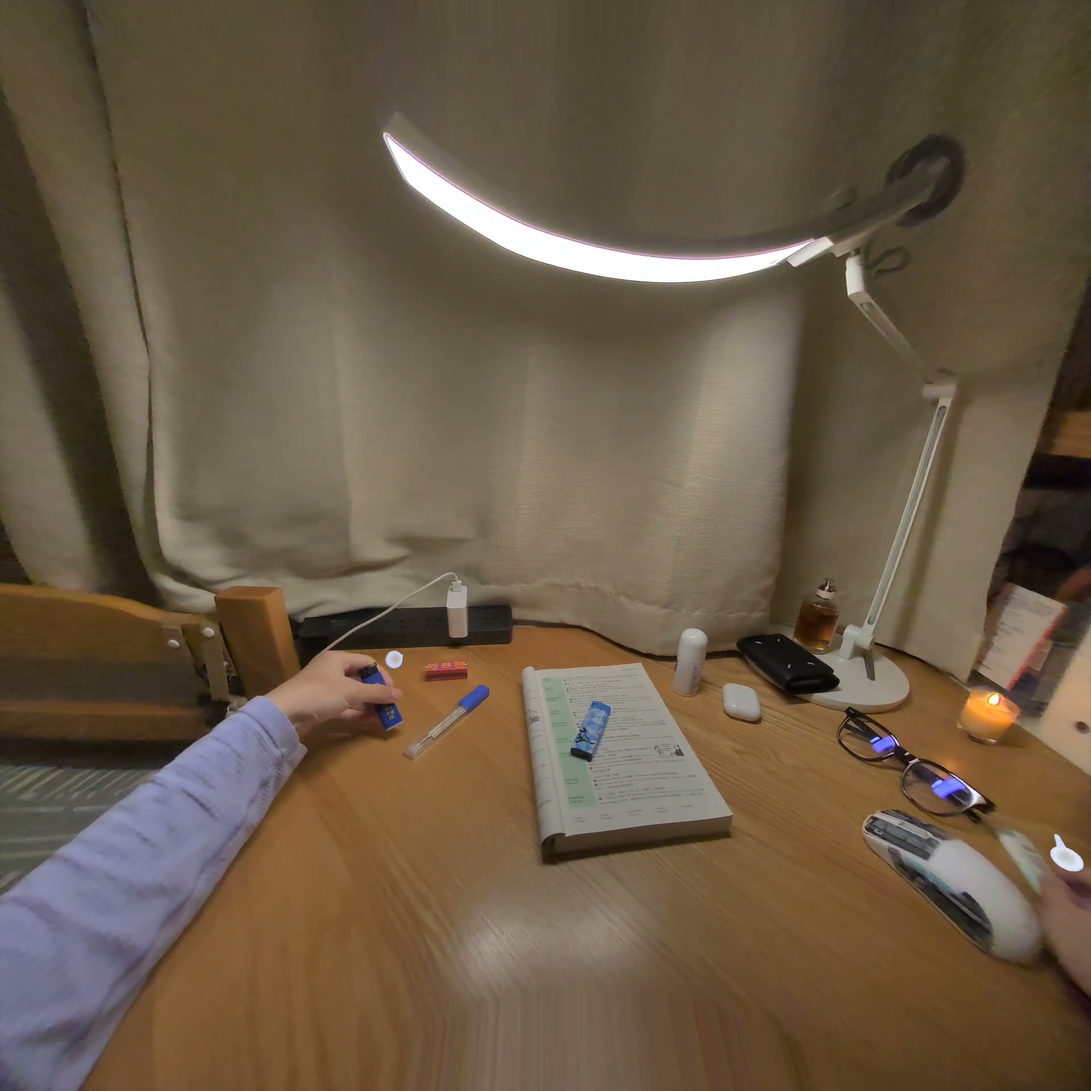lighter: (570, 701, 611, 761)
